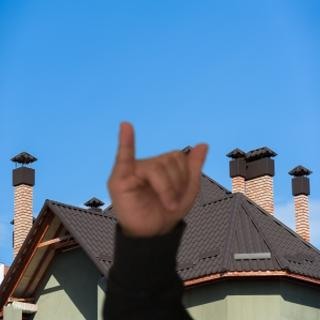HAVE: (99, 119, 221, 239)
